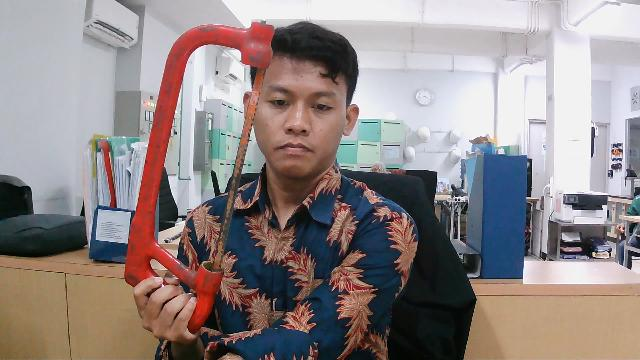gergaji_besi: (85, 11, 282, 308)
